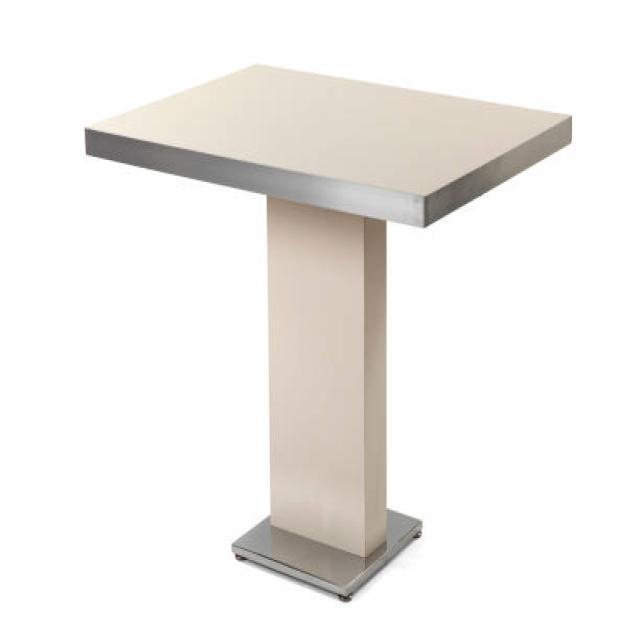table: (84, 60, 574, 602)
